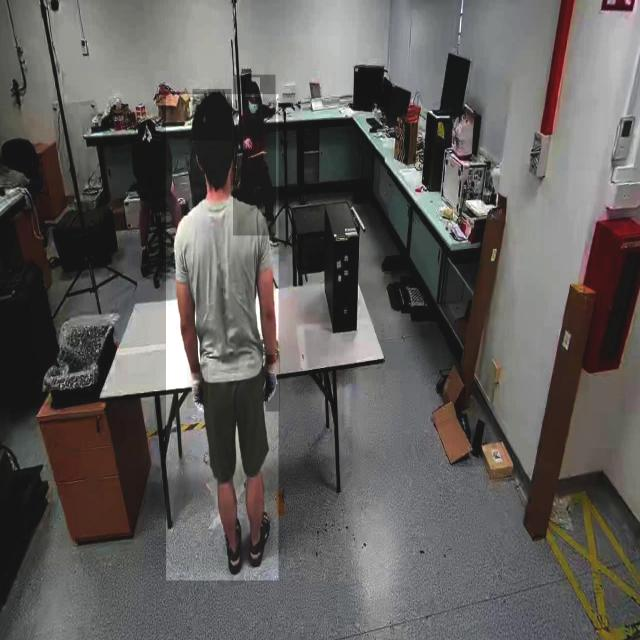face_mask: (245, 92, 262, 120)
hand_glove: (187, 364, 209, 409), (266, 354, 280, 412)
hand_noglove: (242, 136, 252, 149)
head_nohelmet: (192, 89, 232, 140), (245, 77, 261, 98)
person: (166, 94, 279, 582), (233, 74, 276, 236)
